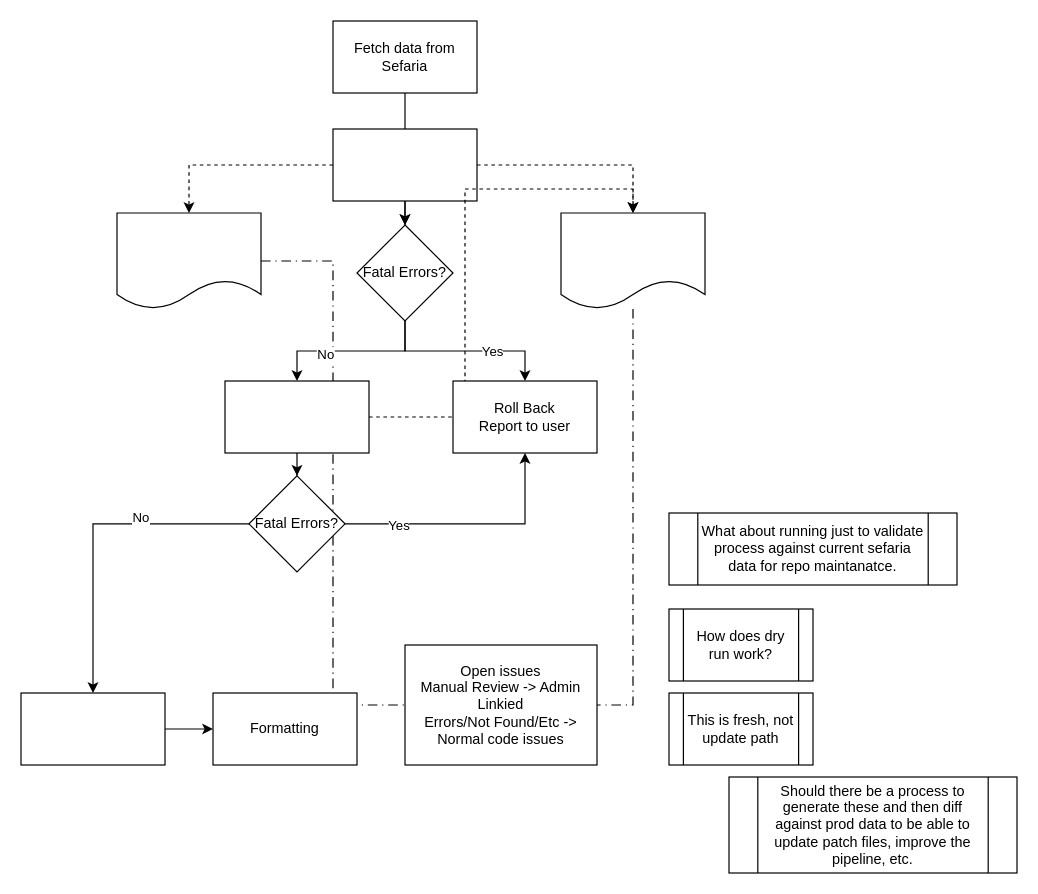
Some shapes in this 1038 by 894 pixel diagram are drawn without their labels. Each missing label, with the centre of its shape:
"Errors/Not Found/Etc Report" goes at [632,260].
"Manual Review Report" goes at [188,260].
"Patch Library Processing" goes at [296,416].
"Run deterministic scripts" goes at [404,164].
"Validation" goes at [92,728].
